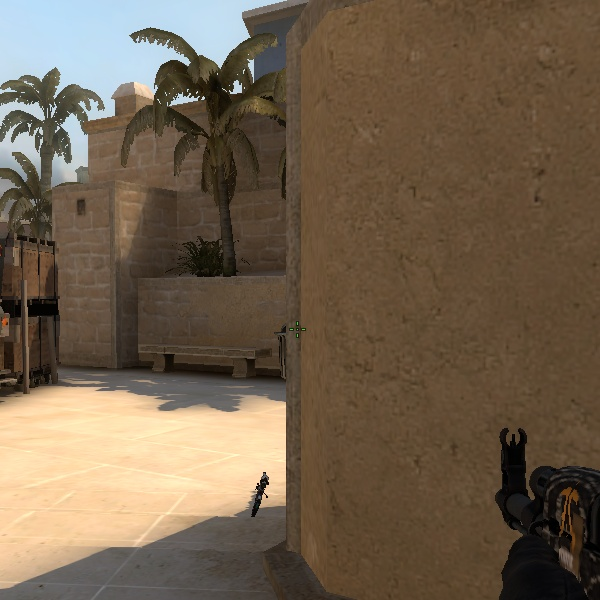t_body: (246, 469, 274, 517)
